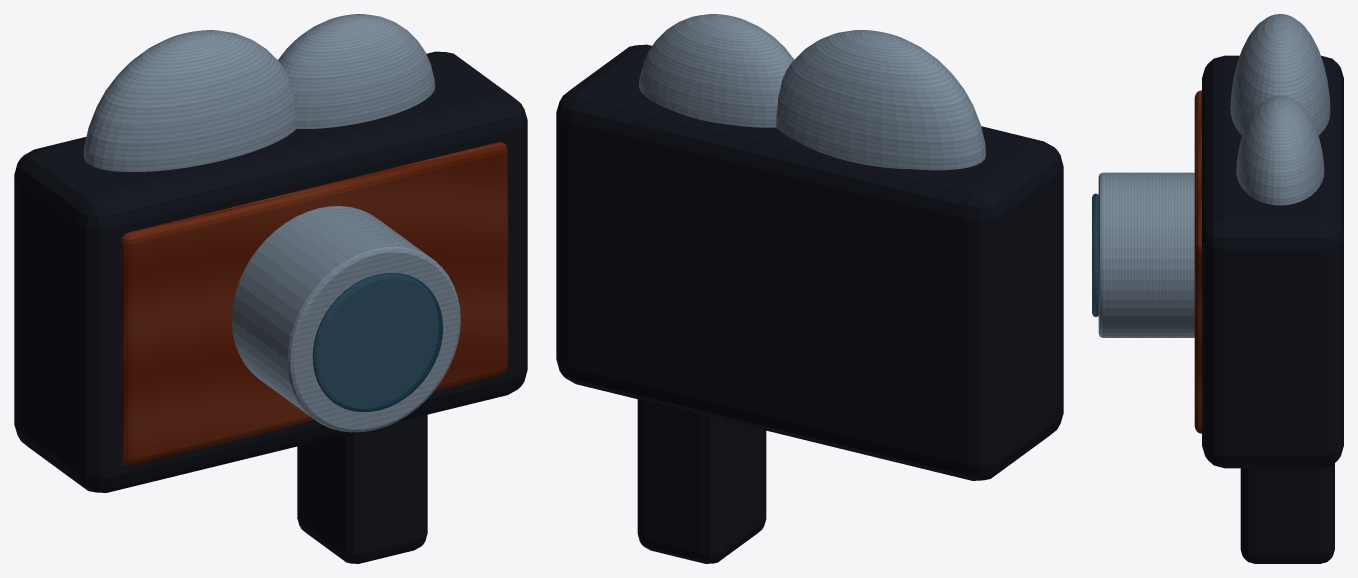
File: camera-super-8.glb
3 views of the same model, side by side, from view 1: azimuth 30°, elevation 25°; view 2: azimuth 150°, elevation 25°; view 3: azimuth 270°, elevation 25° (orthographic). The views are drawn at different scales.
Parts seen in each view (by area): view 1: Corps, Gainage, Objectif, Bobine, Poignee, Lentille, Bobine2; view 2: Corps, Bobine, Poignee, Bobine2; view 3: Corps, Objectif, Poignee, Bobine, Bobine2, Gainage, Lentille.
Boxes of the visible parts, x1=… form: Corps: x1=14, y1=51, x2=527, y2=492; Gainage: x1=120, y1=142, x2=507, y2=465; Objectif: x1=231, y1=206, x2=460, y2=432; Bobine: x1=83, y1=30, x2=296, y2=171; Poignee: x1=297, y1=414, x2=427, y2=563; Lentille: x1=312, y1=273, x2=443, y2=411; Bobine2: x1=278, y1=14, x2=435, y2=128; Corps: x1=556, y1=44, x2=1063, y2=480; Bobine: x1=776, y1=30, x2=986, y2=170; Poignee: x1=637, y1=399, x2=766, y2=563; Bobine2: x1=639, y1=14, x2=794, y2=127; Corps: x1=1202, y1=55, x2=1343, y2=468; Objectif: x1=1098, y1=172, x2=1194, y2=337; Poignee: x1=1240, y1=463, x2=1334, y2=563; Bobine: x1=1230, y1=14, x2=1330, y2=135; Bobine2: x1=1236, y1=95, x2=1324, y2=205; Gainage: x1=1194, y1=90, x2=1201, y2=433; Lentille: x1=1092, y1=193, x2=1098, y2=316.
Size of the model in its own units: 2.9 by 3.42 by 1.71.
4 materials, 4 textured.
